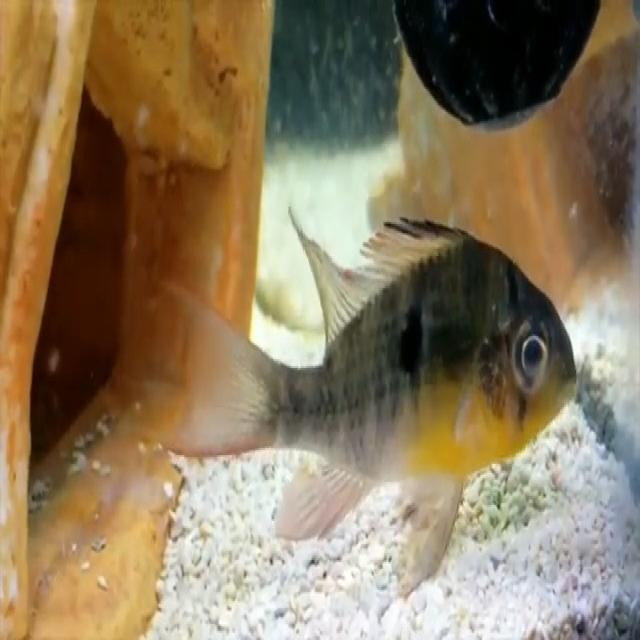fish: (165, 210, 584, 608)
